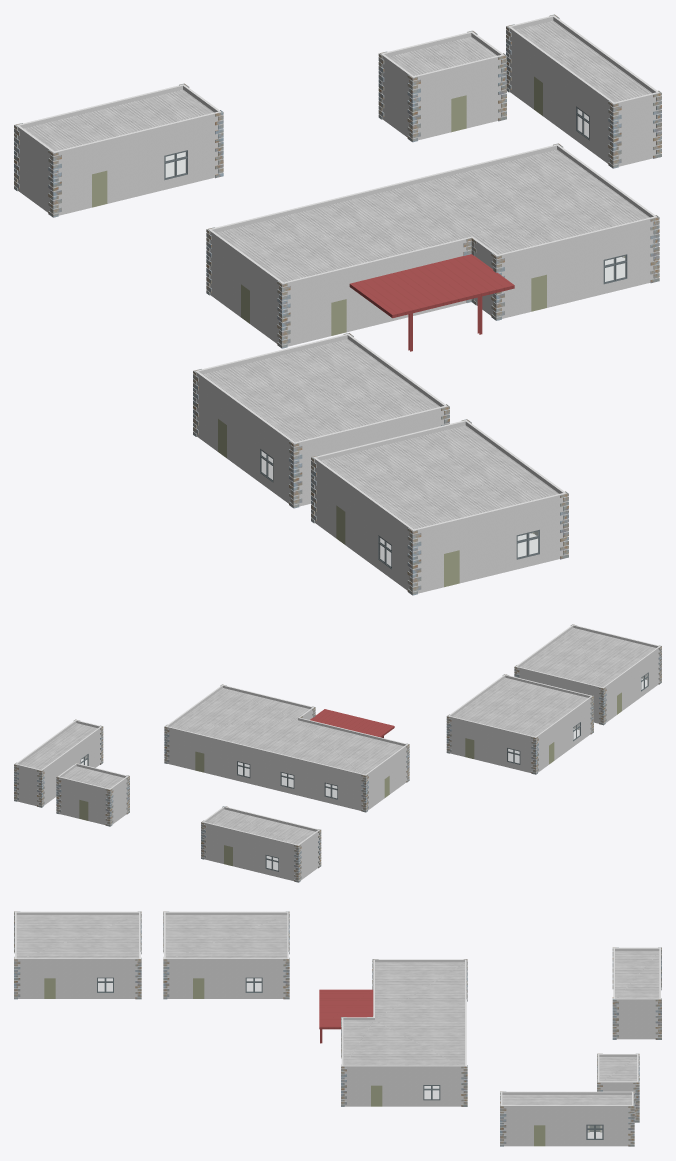
The model's file is Plan(REF)_levels(1)_window(W Double Sash 23_5)_wall(WAFRA WALL)_quoin(Y)_cornice(N).fbx.
3 renders of one model, top to bottom at view 1: azimuth 30°, elevation 25°; view 2: azimuth 150°, elevation 25°; view 3: azimuth 270°, elevation 25°, orthographic. The views are drawn at different scales.
Parts seen in each view (by area): view 1: WAFRA Stucco - White Rough 23, WAFRA Roof - Corrugated Sheet Matte 23, WAFRA Stone - Slate Natural 23, WAFRA Roof - Standing Seam Red Coat 23, Color - Beige, Color - White, Metal - Finish - Aluminum, Glass - Clear; view 2: WAFRA Stucco - White Rough 23, WAFRA Roof - Corrugated Sheet Matte 23, WAFRA Stone - Slate Natural 23, WAFRA Roof - Standing Seam Red Coat 23, Color - Beige, Metal - Finish - Aluminum, Glass - Clear, Color - White; view 3: WAFRA Roof - Corrugated Sheet Matte 23, WAFRA Stucco - White Rough 23, WAFRA Stone - Slate Natural 23, WAFRA Roof - Standing Seam Red Coat 23, Color - Beige, Metal - Finish - Aluminum, Color - White, Glass - Clear.
Part boxes in pixels (box(x1,y1,x2,y2)): WAFRA Stucco - White Rough 23: box(16, 15, 659, 593); WAFRA Roof - Corrugated Sheet Matte 23: box(23, 20, 651, 529); WAFRA Stone - Slate Natural 23: box(14, 14, 661, 595); WAFRA Roof - Standing Seam Red Coat 23: box(349, 254, 514, 351); Color - Beige: box(92, 76, 625, 587); Color - White: box(14, 29, 661, 591); Metal - Finish - Aluminum: box(164, 106, 627, 569); Glass - Clear: box(166, 109, 624, 565); WAFRA Stucco - White Rough 23: box(15, 624, 660, 880); WAFRA Roof - Corrugated Sheet Matte 23: box(20, 628, 655, 844); WAFRA Stone - Slate Natural 23: box(14, 624, 661, 882); WAFRA Roof - Standing Seam Red Coat 23: box(310, 709, 394, 737); Color - Beige: box(79, 692, 621, 866); Metal - Finish - Aluminum: box(80, 672, 648, 871); Glass - Clear: box(81, 674, 647, 870); Color - White: box(14, 648, 661, 880); WAFRA Roof - Corrugated Sheet Matte 23: box(16, 915, 659, 1105); WAFRA Stucco - White Rough 23: box(15, 911, 660, 1146); WAFRA Stone - Slate Natural 23: box(14, 911, 661, 1146); WAFRA Roof - Standing Seam Red Coat 23: box(319, 989, 373, 1043); Color - Beige: box(44, 978, 600, 1146); Metal - Finish - Aluminum: box(97, 977, 603, 1139); Color - White: box(14, 927, 661, 1144); Glass - Clear: box(98, 978, 601, 1138).
Size of the model in its own units: 4163 by 5848 by 400.
Materials: 12 (5 with a texture image).
